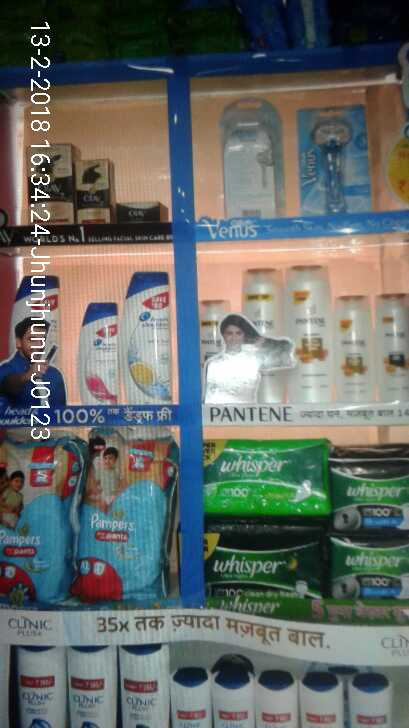venus: (300, 105, 365, 213), (224, 101, 282, 214)
